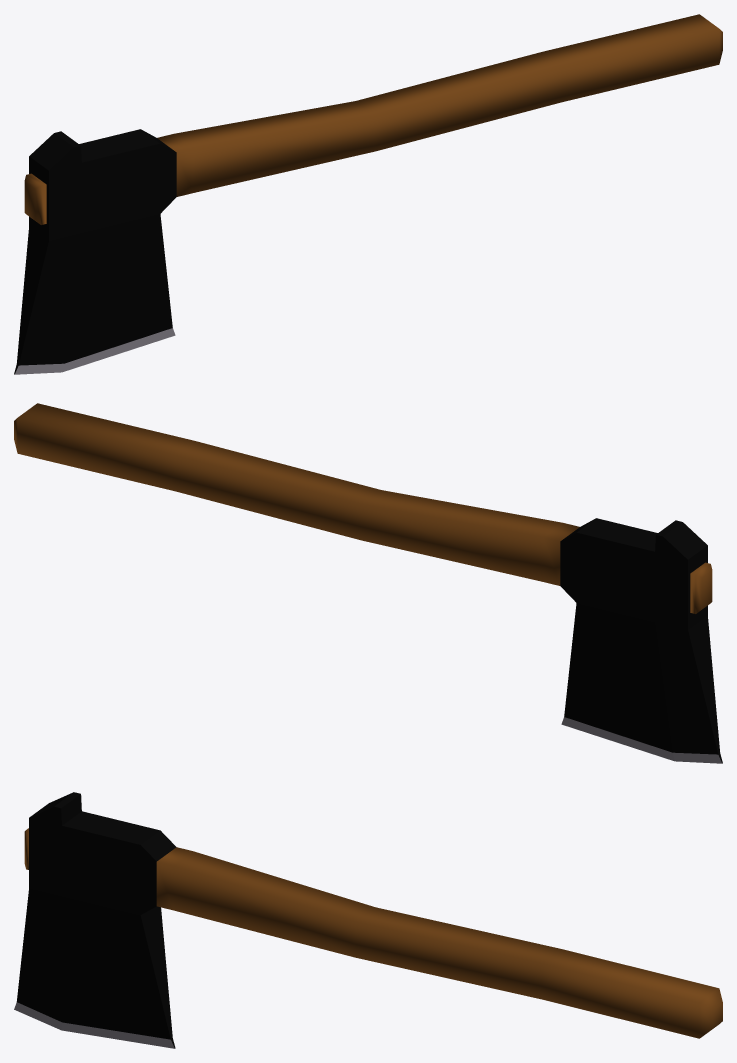
Rendered from Axe.fbx.
The picture shows the model from 3 angles, top to bottom: view 1: azimuth 30°, elevation 25°; view 2: azimuth 150°, elevation 25°; view 3: azimuth 330°, elevation 25°; orthographic projection.
Parts seen in each view (by area): view 1: Cube; view 2: Cube; view 3: Cube.
Part boxes in pixels (x1,y1,x2,y2): Cube: (14, 14, 722, 374); Cube: (14, 403, 722, 763); Cube: (14, 792, 722, 1048).
Size of the model in its own units: 4096 by 1287 by 200.
